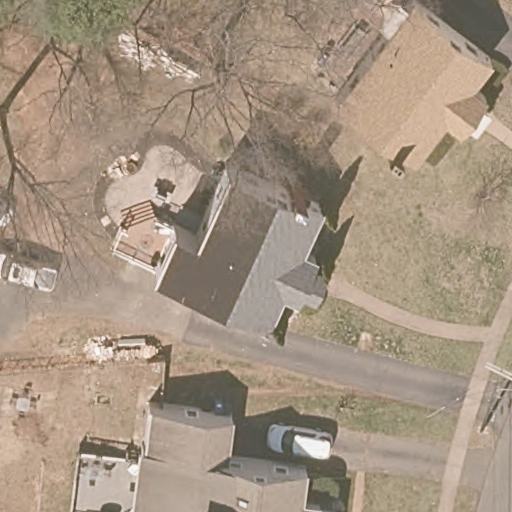DT: (478, 362, 512, 435)
